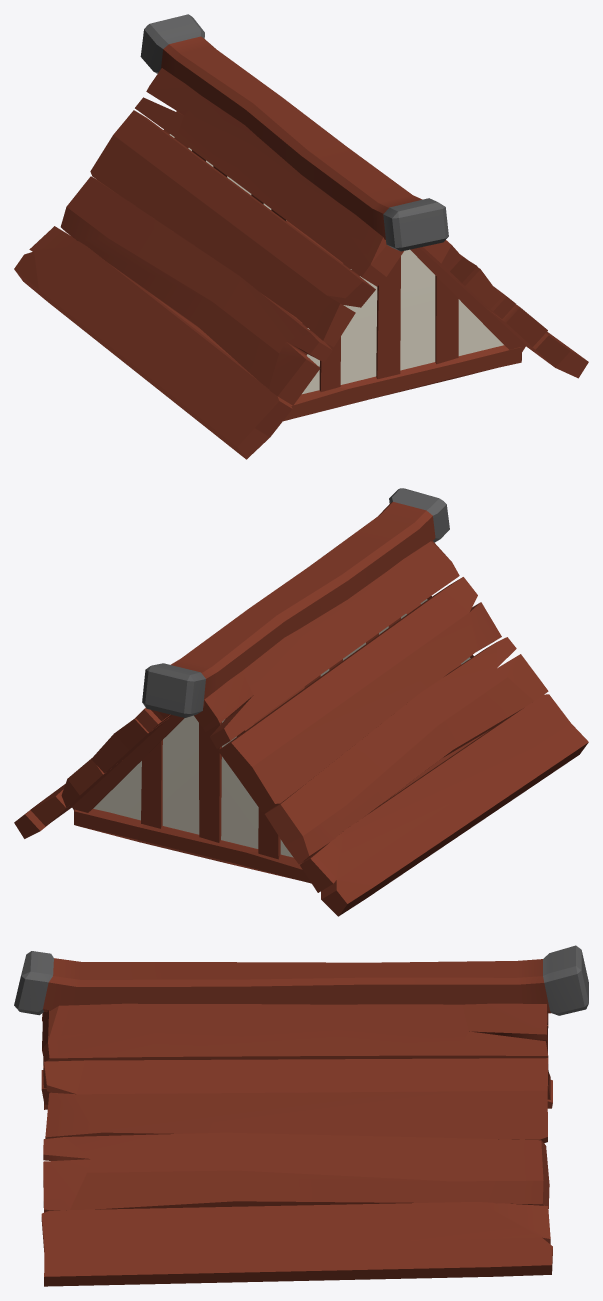
File: House_Roof_A.fbx
The picture shows the model from 3 angles, top to bottom: view 1: azimuth 30°, elevation 25°; view 2: azimuth 150°, elevation 25°; view 3: azimuth 270°, elevation 25°; orthographic projection. The views are drawn at different scales.
Parts seen in each view (by area): view 1: House_Roof_A; view 2: House_Roof_A; view 3: House_Roof_A.
Boxes of the visible parts, x1=… form: House_Roof_A: x1=14, y1=14, x2=588, y2=459; House_Roof_A: x1=14, y1=488, x2=588, y2=916; House_Roof_A: x1=14, y1=945, x2=588, y2=1286.
Bounding box in the file's own units: 475 × 287 × 616.
